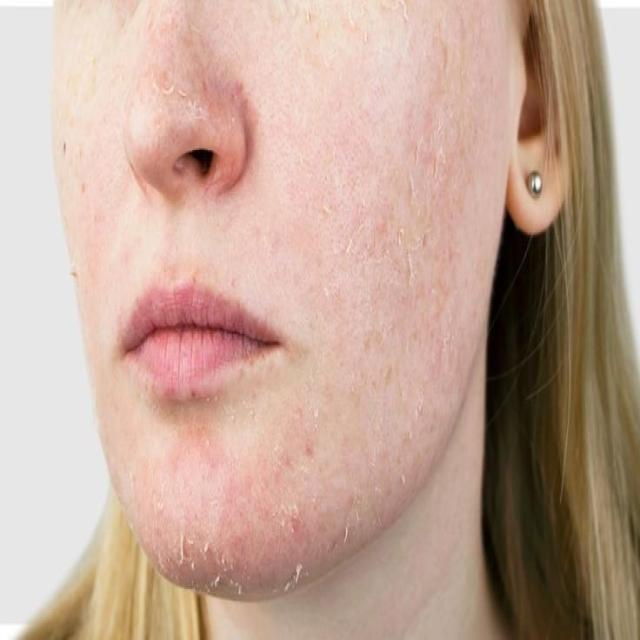Dry-Skin: (402, 93, 464, 213), (169, 505, 241, 598), (301, 460, 345, 572), (264, 443, 296, 576), (355, 383, 397, 484), (383, 222, 421, 333), (325, 158, 370, 241), (72, 108, 100, 241), (149, 43, 198, 106), (308, 24, 349, 98), (424, 340, 457, 412)
